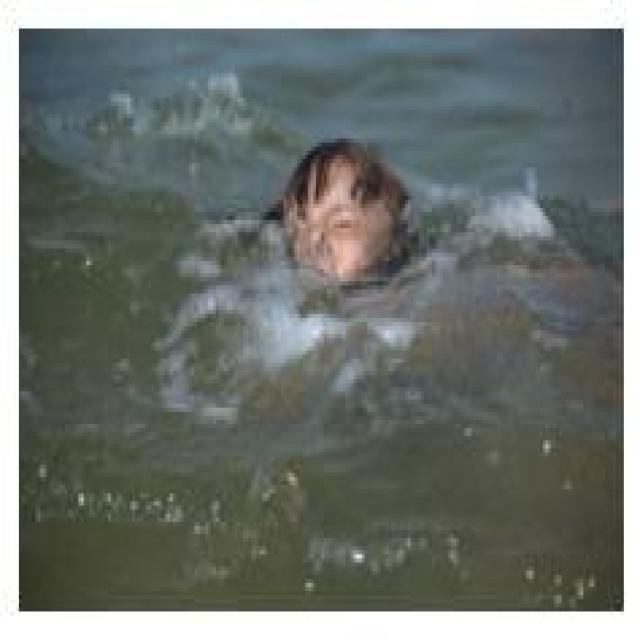Out of Water: (232, 137, 489, 320)
